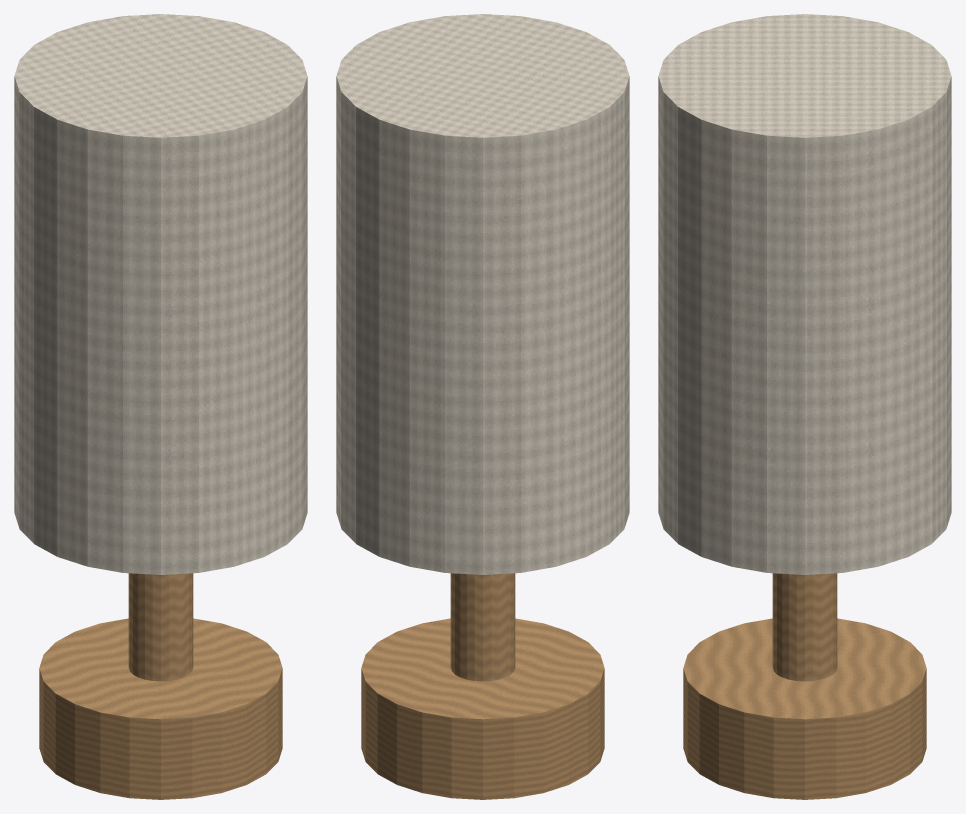
The picture shows the model from 3 angles, left to right: view 1: azimuth 30°, elevation 25°; view 2: azimuth 150°, elevation 25°; view 3: azimuth 270°, elevation 25°; orthographic projection.
Visible parts, largest first — view 1: 3 linen_shade, 1 wood_base, 2 wood_stem; view 2: 3 linen_shade, 1 wood_base, 2 wood_stem; view 3: 3 linen_shade, 1 wood_base, 2 wood_stem.
Part boxes in pixels (bbox=[...]): 3 linen_shade: bbox=[14, 14, 307, 574]; 1 wood_base: bbox=[39, 618, 282, 799]; 2 wood_stem: bbox=[128, 573, 193, 681]; 3 linen_shade: bbox=[336, 14, 629, 574]; 1 wood_base: bbox=[361, 618, 604, 799]; 2 wood_stem: bbox=[450, 573, 515, 681]; 3 linen_shade: bbox=[658, 14, 951, 574]; 1 wood_base: bbox=[683, 618, 926, 799]; 2 wood_stem: bbox=[772, 573, 837, 681].
Size of the model in its own units: 0.1148 by 0.2908 by 0.1148.
2 materials, 2 textured.
